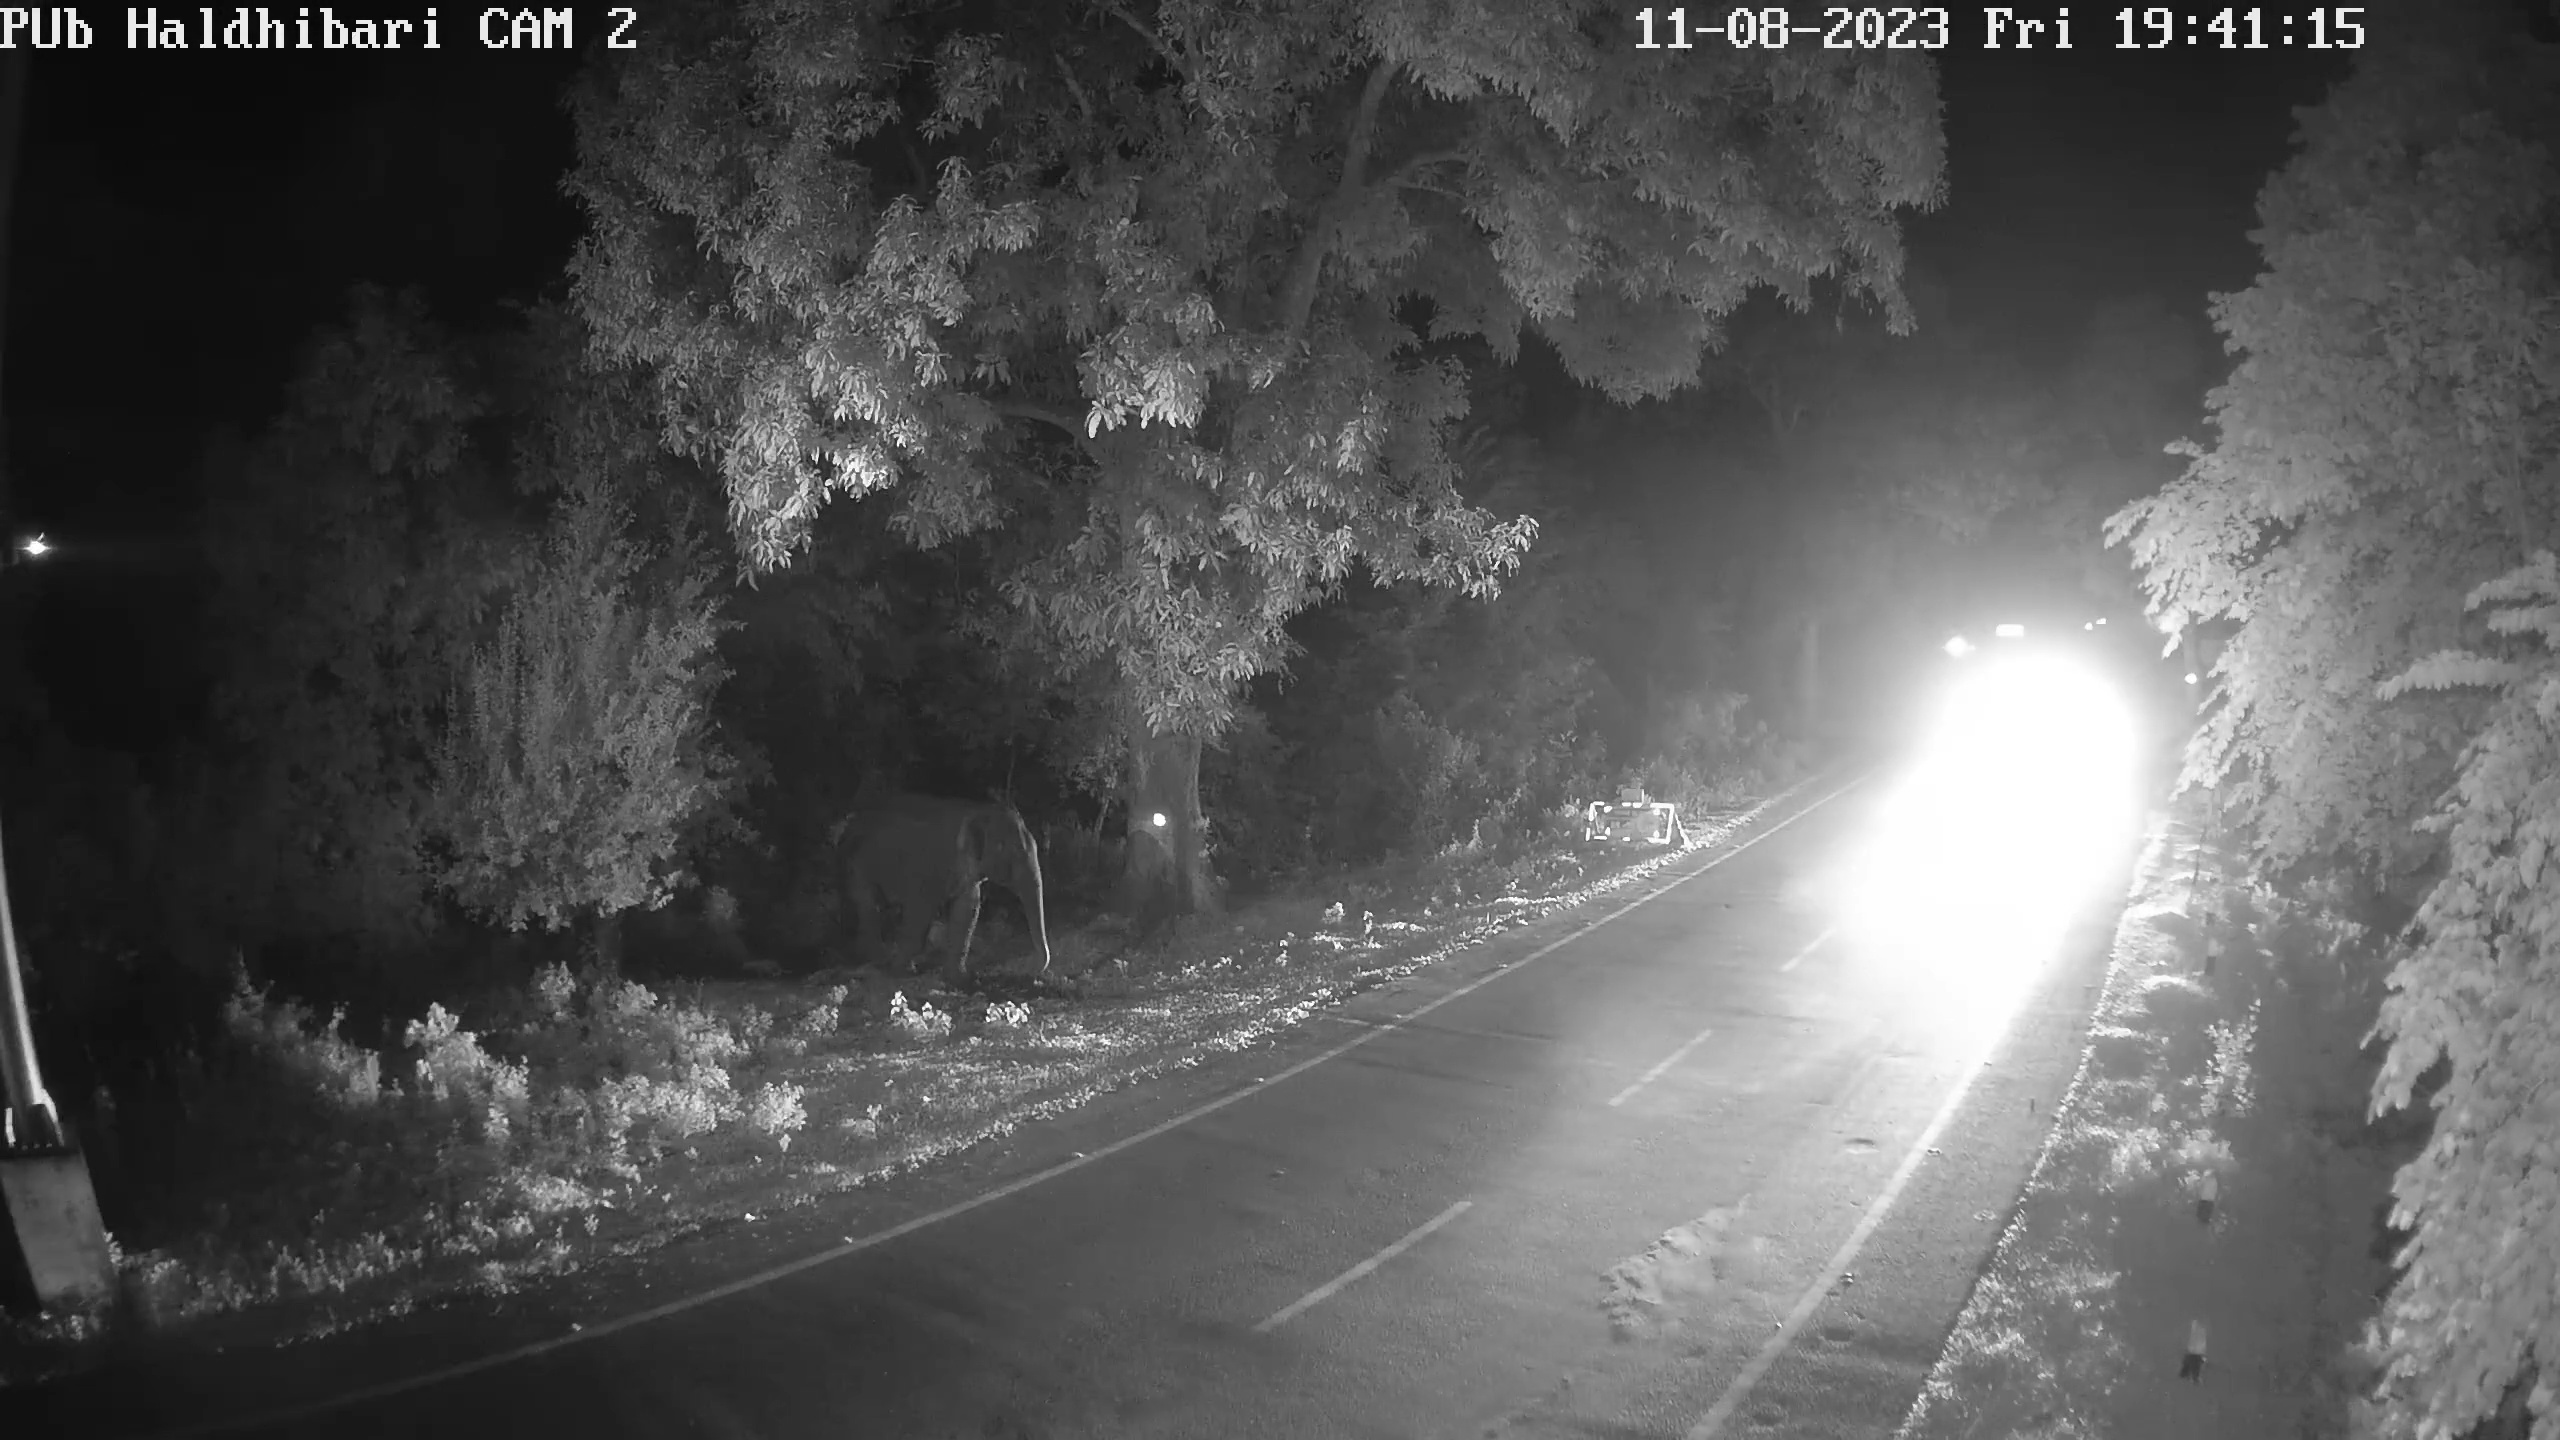elephants: (830, 795, 1051, 978)
